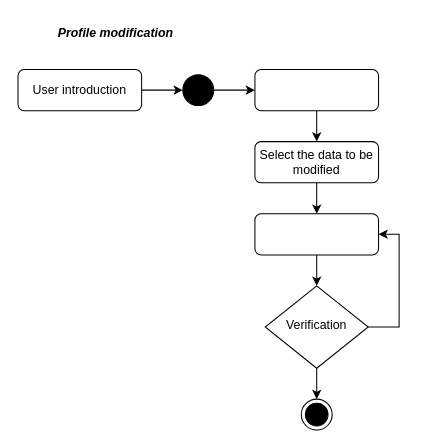
The diagram is 425 pixels wide and 448 high, and some of its shapes have lost their labels. The shapes that lost their labels are listed below. From the top down, each one's box as (x1, y1, x2, y2) in pixels, then its label:
(254, 68, 379, 111): User data
(254, 213, 379, 255): Notification
